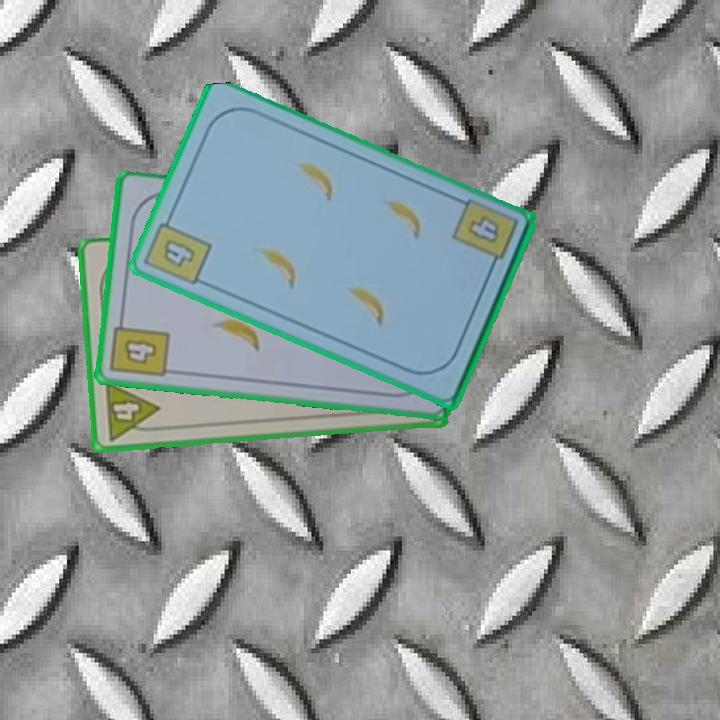4b: (142, 210, 215, 289), (107, 312, 172, 381), (463, 212, 502, 247)
4p: (101, 378, 163, 443)
